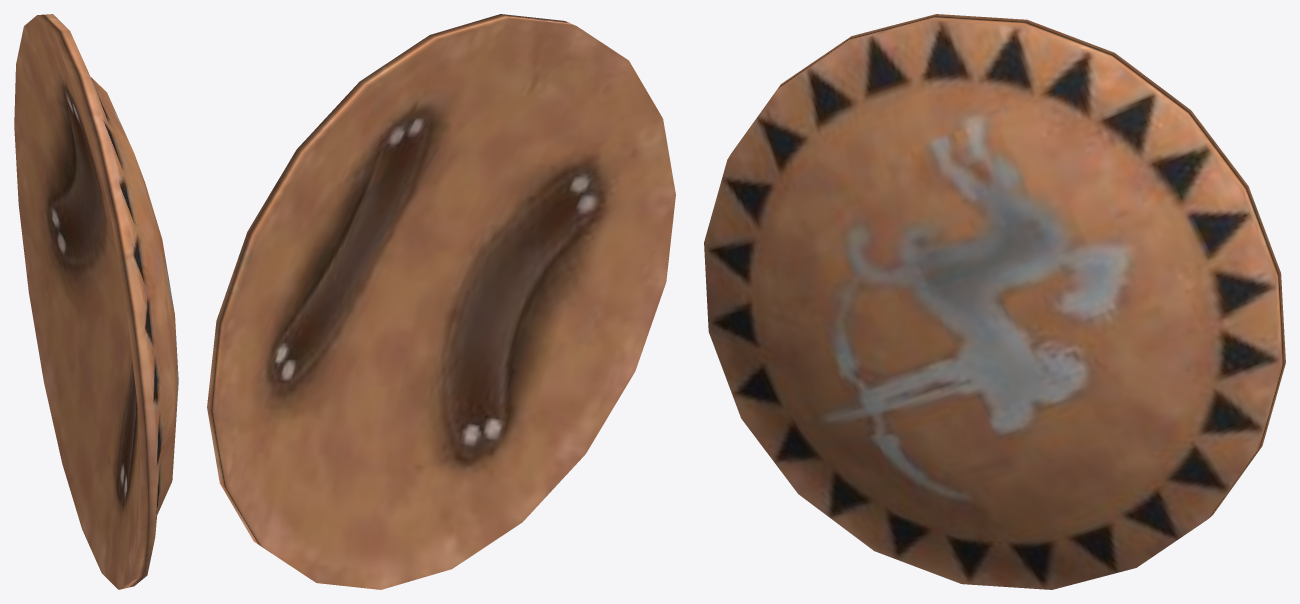
File: rider-shield-slice-bronzeshields.glb
3 renders of one model, left to right at view 1: azimuth 30°, elevation 25°; view 2: azimuth 150°, elevation 25°; view 3: azimuth 270°, elevation 25°, orthographic. The views are drawn at different scales.
Bounding box in the file's own units: 0.1694 × 0.479 × 0.4591.
1 material, 1 textured.
